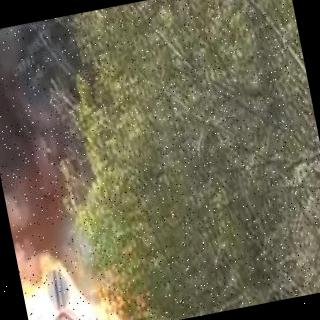smoke: (0, 7, 158, 267)
